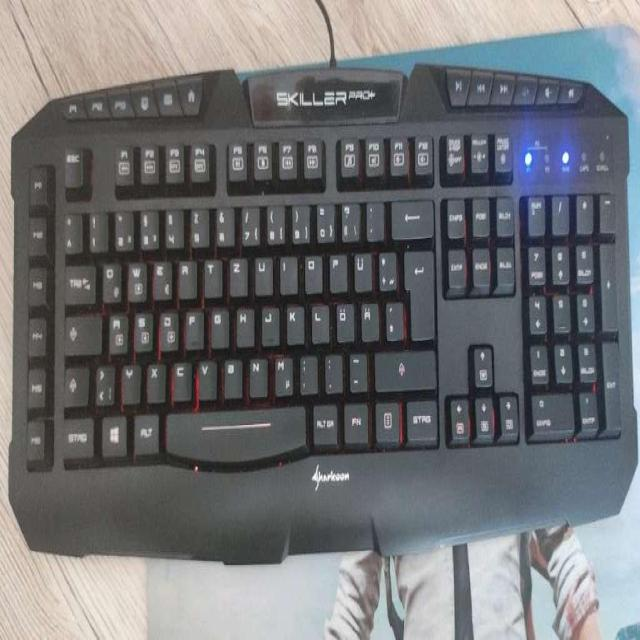0: (313, 196, 333, 240)
1: (86, 206, 106, 250)
2: (111, 203, 132, 247)
3: (136, 203, 157, 247)
4: (162, 202, 182, 246)
5: (187, 201, 207, 246)
6: (213, 200, 233, 244)
7: (238, 199, 258, 243)
8: (263, 197, 283, 243)
9: (288, 197, 308, 241)
a: (106, 307, 126, 350)
accent: (363, 195, 382, 238)
ae: (358, 297, 377, 337)
alt-left: (131, 407, 158, 452)
altgr-right: (310, 398, 337, 442)
b: (221, 353, 241, 395)
c: (169, 355, 190, 397)
caret: (61, 207, 80, 251)
comma: (296, 350, 316, 391)
d: (156, 304, 176, 347)
del: (388, 194, 431, 236)
e: (150, 255, 171, 297)
enter: (402, 244, 433, 337)
f: (182, 304, 201, 345)
g: (207, 303, 227, 343)
h: (233, 302, 253, 344)
hash: (383, 295, 401, 337)
i: (277, 251, 296, 290)
j: (259, 301, 278, 343)
k: (283, 299, 303, 341)
keyboard: (15, 86, 631, 485)
l: (308, 298, 328, 340)
less: (93, 359, 113, 401)
m: (271, 350, 291, 392)
minus: (346, 346, 366, 389)
n: (246, 353, 266, 393)
o: (302, 249, 321, 289)
oe: (333, 298, 353, 338)
p: (326, 247, 345, 289)
plus: (375, 246, 394, 288)
point: (321, 349, 341, 389)
q: (99, 257, 119, 298)
r: (175, 255, 195, 295)
s: (131, 306, 151, 348)
shift-left: (61, 363, 87, 403)
shift-lock: (62, 309, 100, 353)
shift-right: (372, 345, 434, 387)
space: (163, 402, 306, 459)
ss: (338, 196, 358, 239)
strg-left: (60, 411, 93, 457)
strg-right: (402, 393, 437, 439)
t: (201, 253, 220, 294)
tab: (62, 259, 94, 301)
u: (252, 251, 271, 293)
ue: (351, 247, 370, 289)
v: (194, 354, 215, 396)
w: (124, 256, 145, 298)
x: (145, 358, 165, 398)
y: (119, 357, 139, 401)
z: (226, 252, 246, 293)
